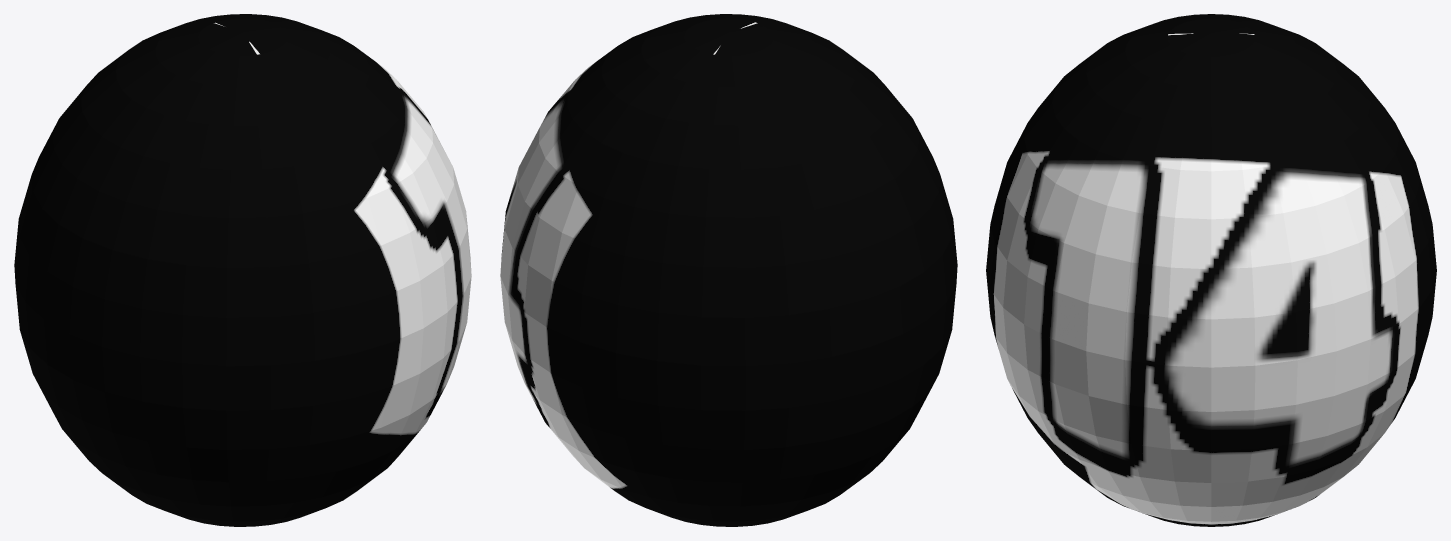
Rendered from heand14.fbx.
The picture shows the model from 3 angles, left to right: view 1: azimuth 30°, elevation 25°; view 2: azimuth 150°, elevation 25°; view 3: azimuth 270°, elevation 25°; orthographic projection.
Visible parts, largest first — view 1: Sphere; view 2: Sphere; view 3: Sphere.
Boxes of the visible parts, x1,y1,x2,y2 form: Sphere: (14, 14, 471, 526); Sphere: (500, 14, 957, 526); Sphere: (986, 14, 1436, 526).
Bounding box in the file's own units: 15.08 × 17.19 × 14.8.
